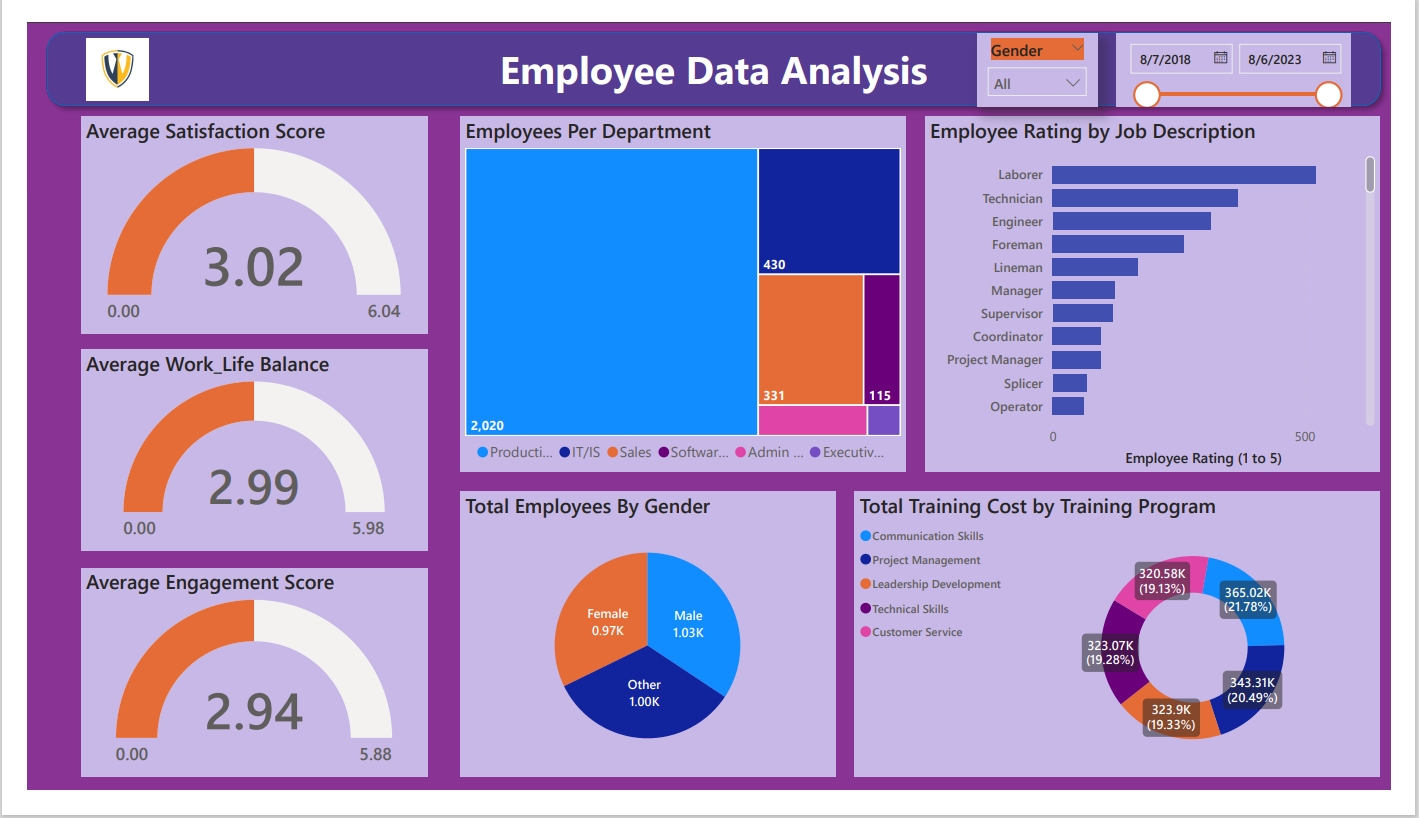

This screenshot's page, from the dashboard's own definition file:
{"tool":"powerbi","page":{"name":"Page 1","canvas":[1280,720],"ordinal":0},"visuals":[{"type":"shape","box":[9.6,0,1270.7,86.5],"z":0},{"type":"treemap","title":"Employees Per Department","fields":{"Values":["CountNonNull(Employee_data.Employee ID)"],"Group":["Employee_data.DepartmentType"]},"box":[407.3,88.2,417.7,333.4],"z":1000},{"type":"pieChart","title":"Total Employees By Gender","fields":{"Y":["CountNonNull(Employee_data.Employee ID)"],"Category":["Employee_data.Gender"]},"box":[407.3,439.7,351.5,268.5],"z":2000},{"type":"donutChart","title":"Total Training Cost by Training Program","fields":{"Y":["Sum(Employee_data.Training Cost)"],"Category":["Employee_data.Training Program"]},"box":[777,439.7,492.9,268.5],"z":3000},{"type":"clusteredBarChart","title":"Employee Rating by Job Description","fields":{"Category":["Employee_data.JobFunctionDescription"],"Y":["CountNonNull(Employee_data.Current Employee Rating)"]},"box":[843.1,88.2,426.8,333.4],"z":4000},{"type":"gauge","title":"Average Satisfaction Score","fields":{"Y":["Avg(Employee_data.Satisfaction_score)"]},"box":[50.6,88.2,325.6,203.6],"z":5000},{"type":"gauge","title":"Average Work_Life Balance","fields":{"Y":["Avg(Employee_data.work_life_balance)"]},"box":[50.6,307.4,325.6,188.1],"z":6000},{"type":"gauge","title":"Average Engagement Score","fields":{"Y":["Avg(Employee_data.Engagement_score)"]},"box":[50.6,512.4,325.6,195.9],"z":7000},{"type":"slicer","fields":{"Values":["Employee_data.StartDate"]},"box":[1023.4,10.4,219.2,68.7],"z":7001},{"type":"slicer","fields":{"Values":["Employee_data.Gender"]},"box":[892.4,10.4,112.8,68.7],"z":7002},{"type":"image","box":[50.7,9.7,68.8,68.8],"z":7003}]}

Visuals, with their boxes in screenshot pixels (x1, y1, x2, y2), scaled from the page's 1280x720 canvas onto the 1419x818 screenshot:
shape: 11 0 1418 98
"Employees Per Department" treemap: 452 100 915 479
"Total Employees By Gender" pieChart: 452 500 841 805
"Total Training Cost by Training Program" donutChart: 861 500 1408 805
"Employee Rating by Job Description" clusteredBarChart: 935 100 1408 479
"Average Satisfaction Score" gauge: 56 100 417 332
"Average Work_Life Balance" gauge: 56 349 417 563
"Average Engagement Score" gauge: 56 582 417 805
slicer - Employee_data.StartDate: 1135 12 1378 90
slicer - Employee_data.Gender: 989 12 1114 90
image: 56 11 132 89
